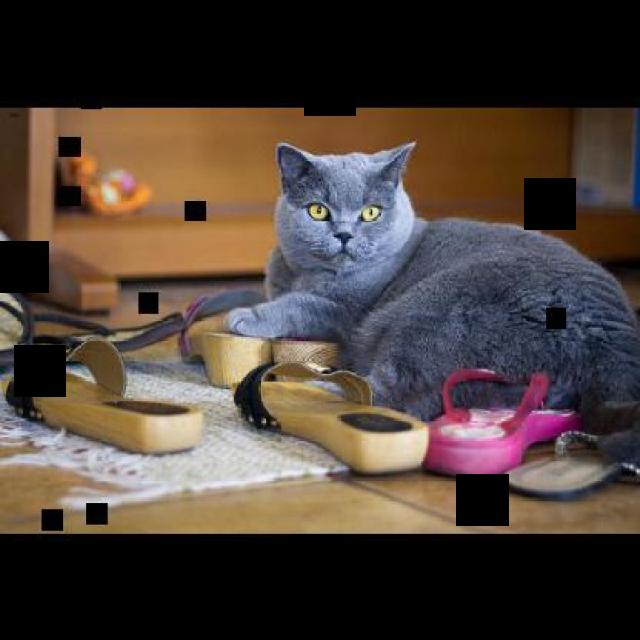unauthorized: (224, 138, 638, 477)
